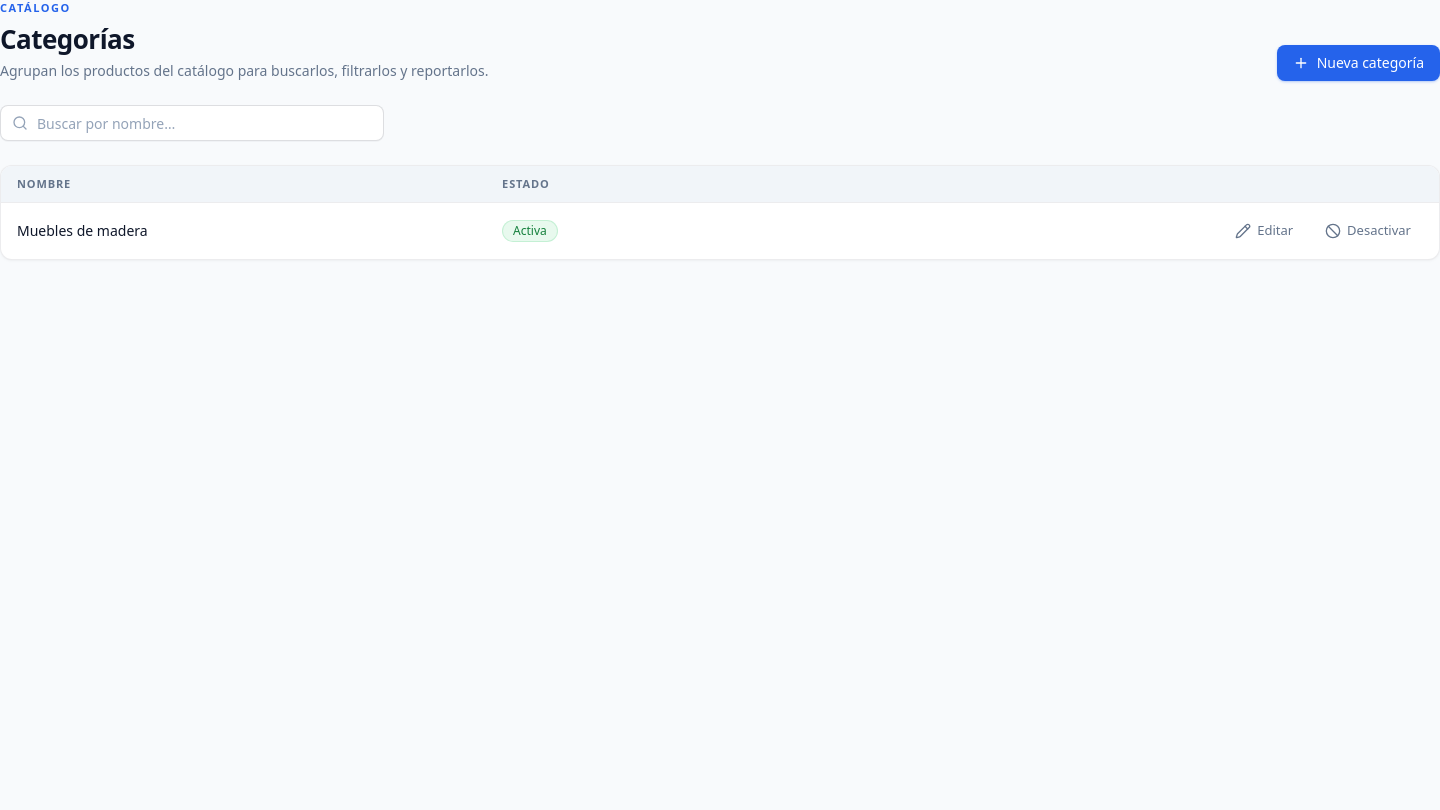
CategoriesPage › opens the edit modal pre-filled with the selected category
Click the button "Editar" at x=1264, y=231, box [1223,215,1305,247]
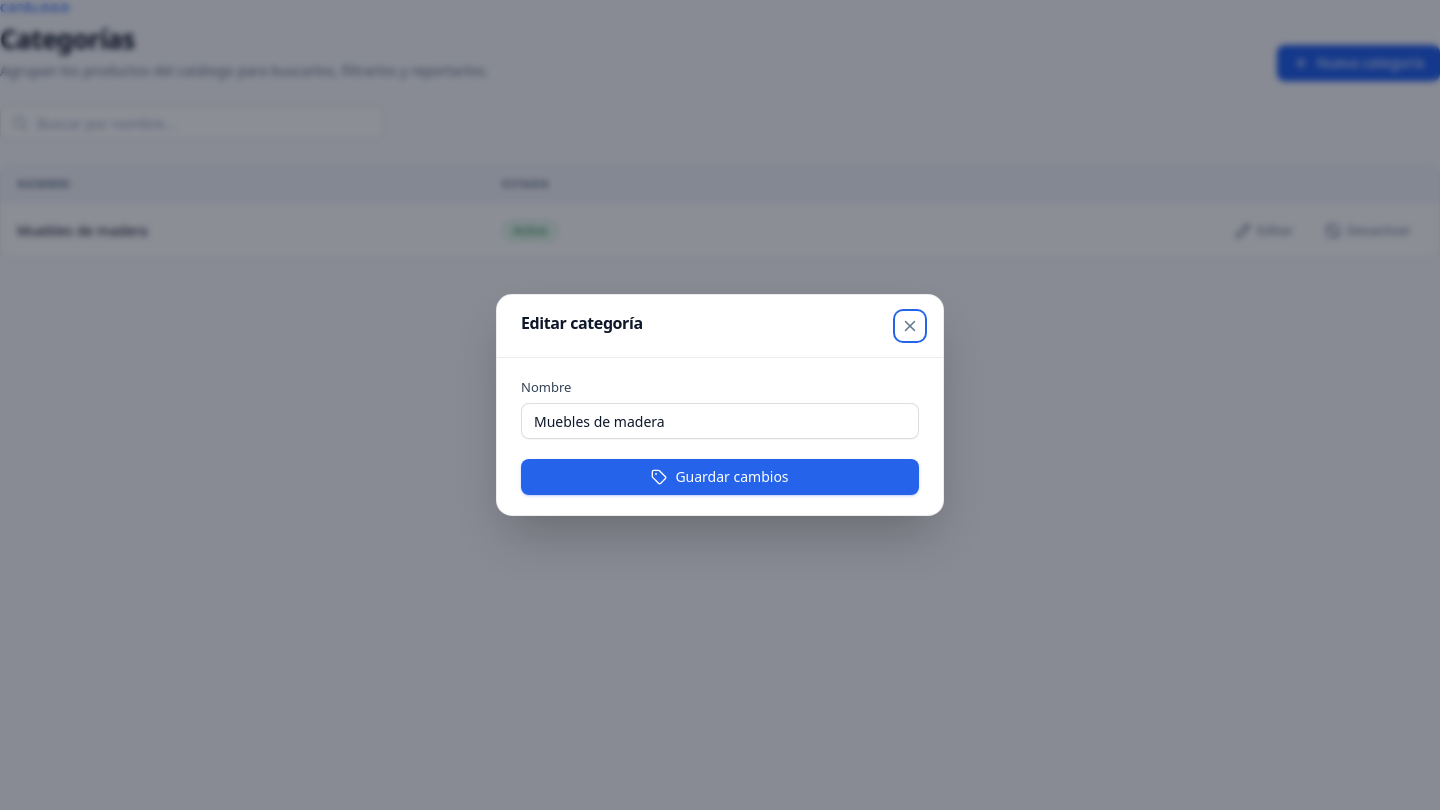
Result: the dialog "Editar categoría" is shown at [496,294,944,516]
Result: the field labelled "Nombre" holds "Muebles de madera" at [521,403,919,439]
